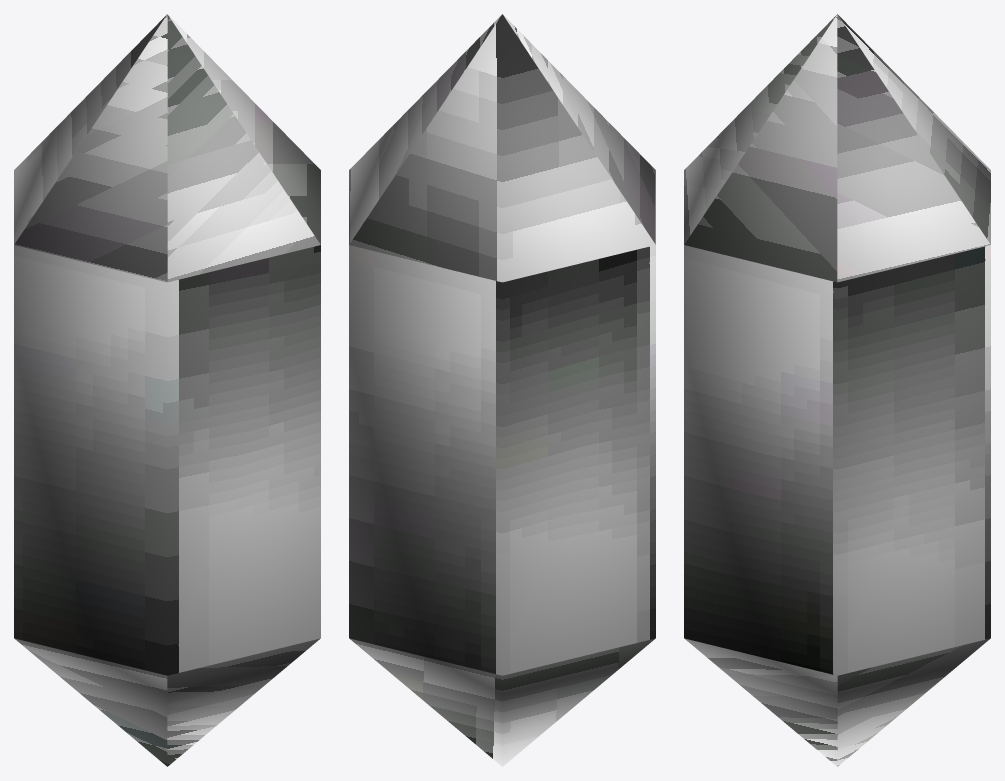
File: INST_TROLLHOLE_CRYSTALA.fbx
The picture shows the model from 3 angles, left to right: view 1: azimuth 30°, elevation 25°; view 2: azimuth 150°, elevation 25°; view 3: azimuth 270°, elevation 25°; orthographic projection.
Parts seen in each view (by area): view 1: INST_TROLLHOLE_CRYSTALA; view 2: INST_TROLLHOLE_CRYSTALA; view 3: INST_TROLLHOLE_CRYSTALA.
Part boxes in pixels (bbox=[...]): INST_TROLLHOLE_CRYSTALA: bbox=[14, 14, 320, 766]; INST_TROLLHOLE_CRYSTALA: bbox=[349, 14, 655, 766]; INST_TROLLHOLE_CRYSTALA: bbox=[684, 14, 990, 766].
Bounding box in the file's own units: 2555 × 5993 × 2213.
Materials: 1 (1 with a texture image).
